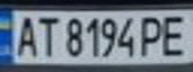1: (81, 15, 103, 57)
4: (115, 14, 142, 58)
8: (60, 14, 84, 57)
9: (100, 15, 121, 57)
A: (9, 12, 42, 57)
E: (157, 11, 193, 57)
P: (136, 12, 169, 57)
T: (33, 14, 60, 57)
